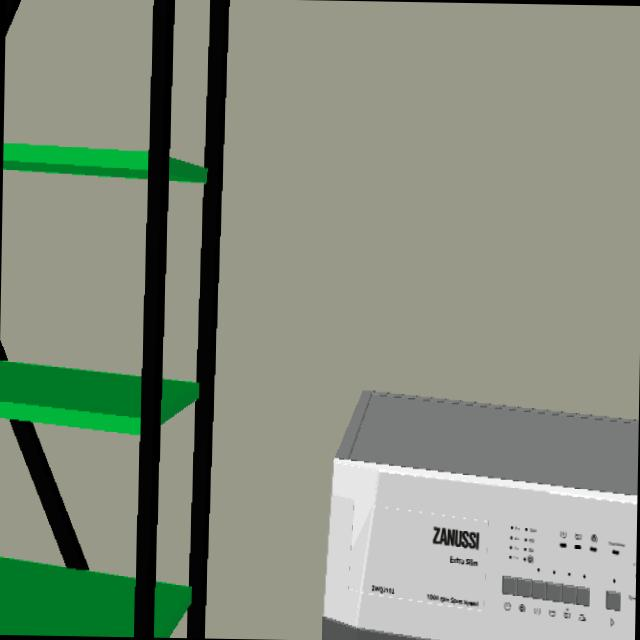shelf: (0, 48, 228, 637)
